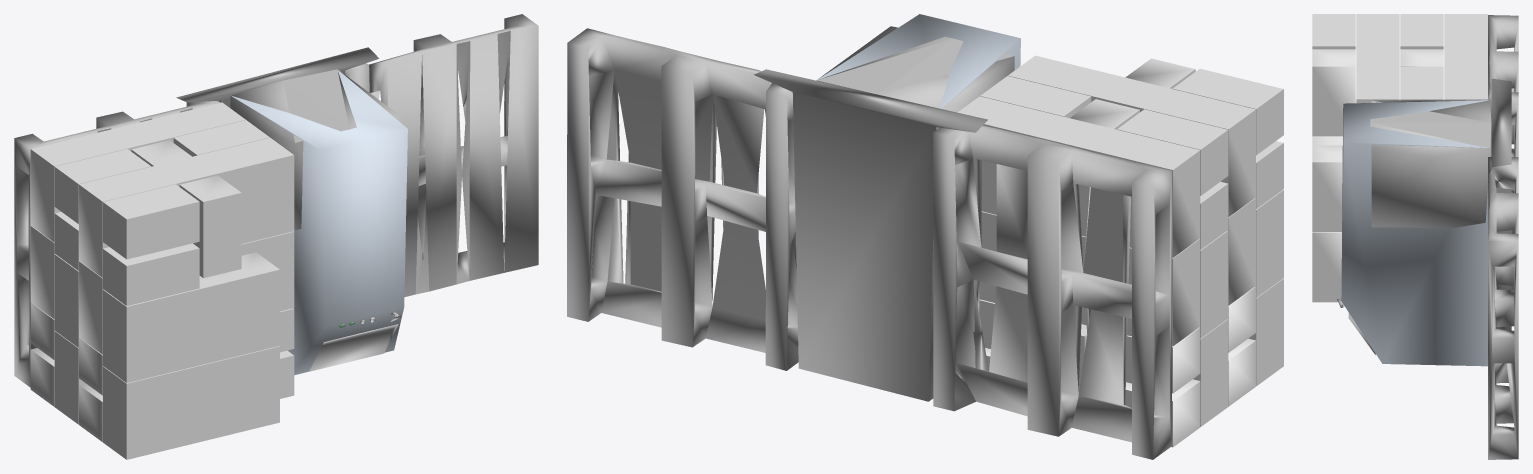
3 renders of one model, left to right at view 1: azimuth 30°, elevation 25°; view 2: azimuth 150°, elevation 25°; view 3: azimuth 270°, elevation 25°, orthographic. The views are drawn at different scales.
Parts seen in each view (by area): view 1: Final2; view 2: Final2; view 3: Final2.
Part boxes in pixels (x1,y1,x2,y2): Final2: [14, 14, 538, 459]; Final2: [567, 14, 1283, 459]; Final2: [1312, 14, 1518, 459].
Bounding box in the file's own units: 2656 × 1233 × 1022.
